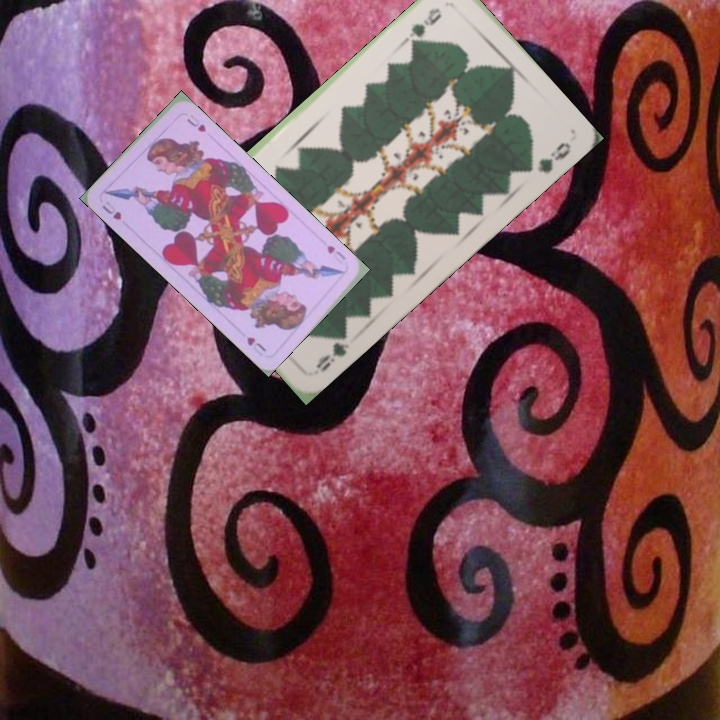G9: (311, 324, 352, 375), (401, 3, 444, 48)
HU: (97, 197, 124, 222), (323, 241, 349, 263)
